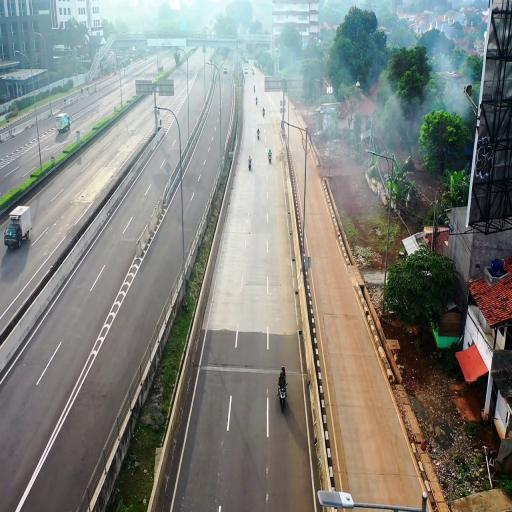vehicle: (4, 205, 31, 248)
